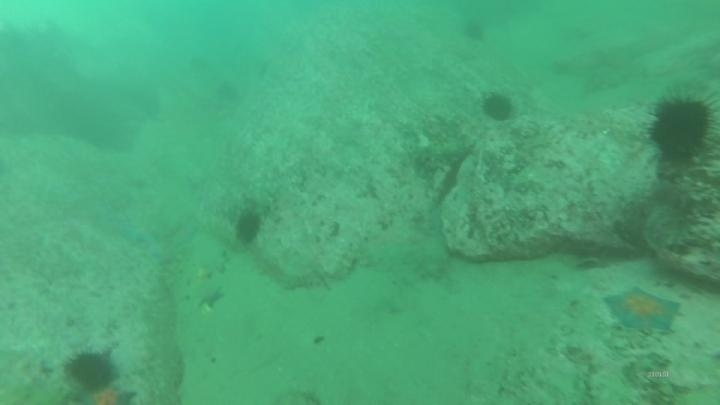echinus: (645, 90, 717, 165), (64, 347, 119, 391), (232, 208, 265, 247), (480, 90, 516, 124), (460, 17, 489, 44)
holothurian: (410, 134, 471, 173)
starfish: (601, 284, 684, 336), (117, 216, 161, 249), (71, 382, 138, 403), (196, 285, 226, 315)
